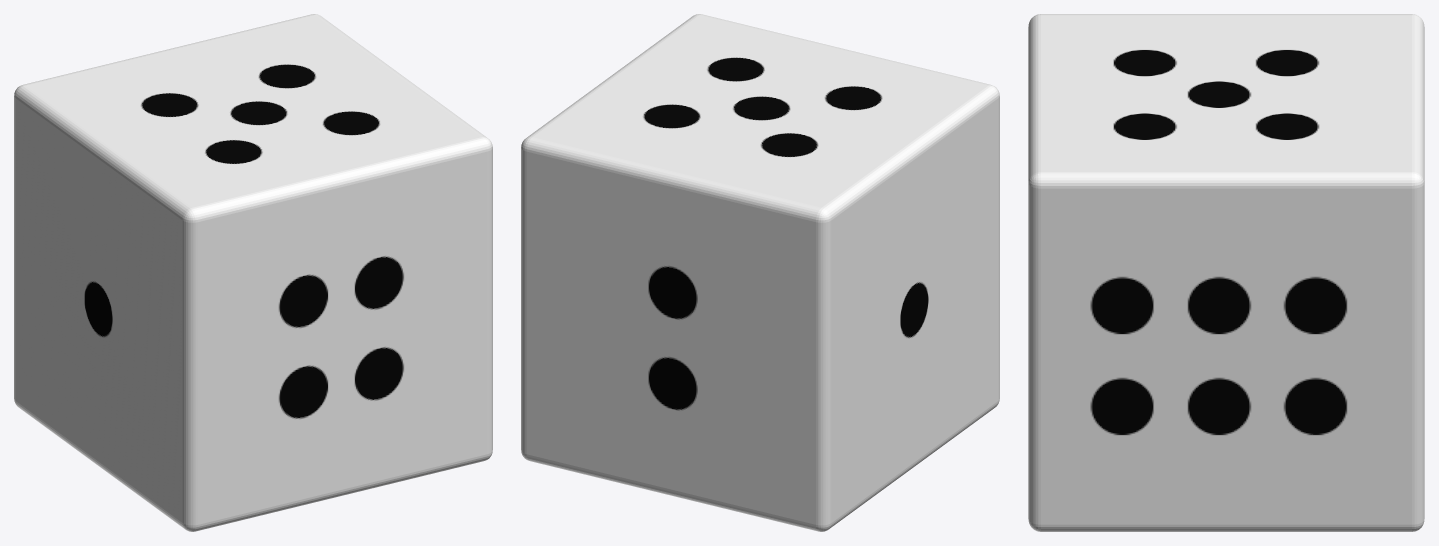
File: dice_update.fbx
3 views of the same model, side by side, from view 1: azimuth 30°, elevation 25°; view 2: azimuth 150°, elevation 25°; view 3: azimuth 270°, elevation 25° (orthographic). The views are drawn at different scales.
Visible parts, largest first — view 1: Cube; view 2: Cube; view 3: Cube.
Part boxes in pixels (x1=…): Cube: x1=14, y1=14, x2=492, y2=531; Cube: x1=521, y1=14, x2=999, y2=531; Cube: x1=1028, y1=14, x2=1424, y2=531.
Size of the model in its own units: 200 by 200 by 200.
1 material, 1 textured.
